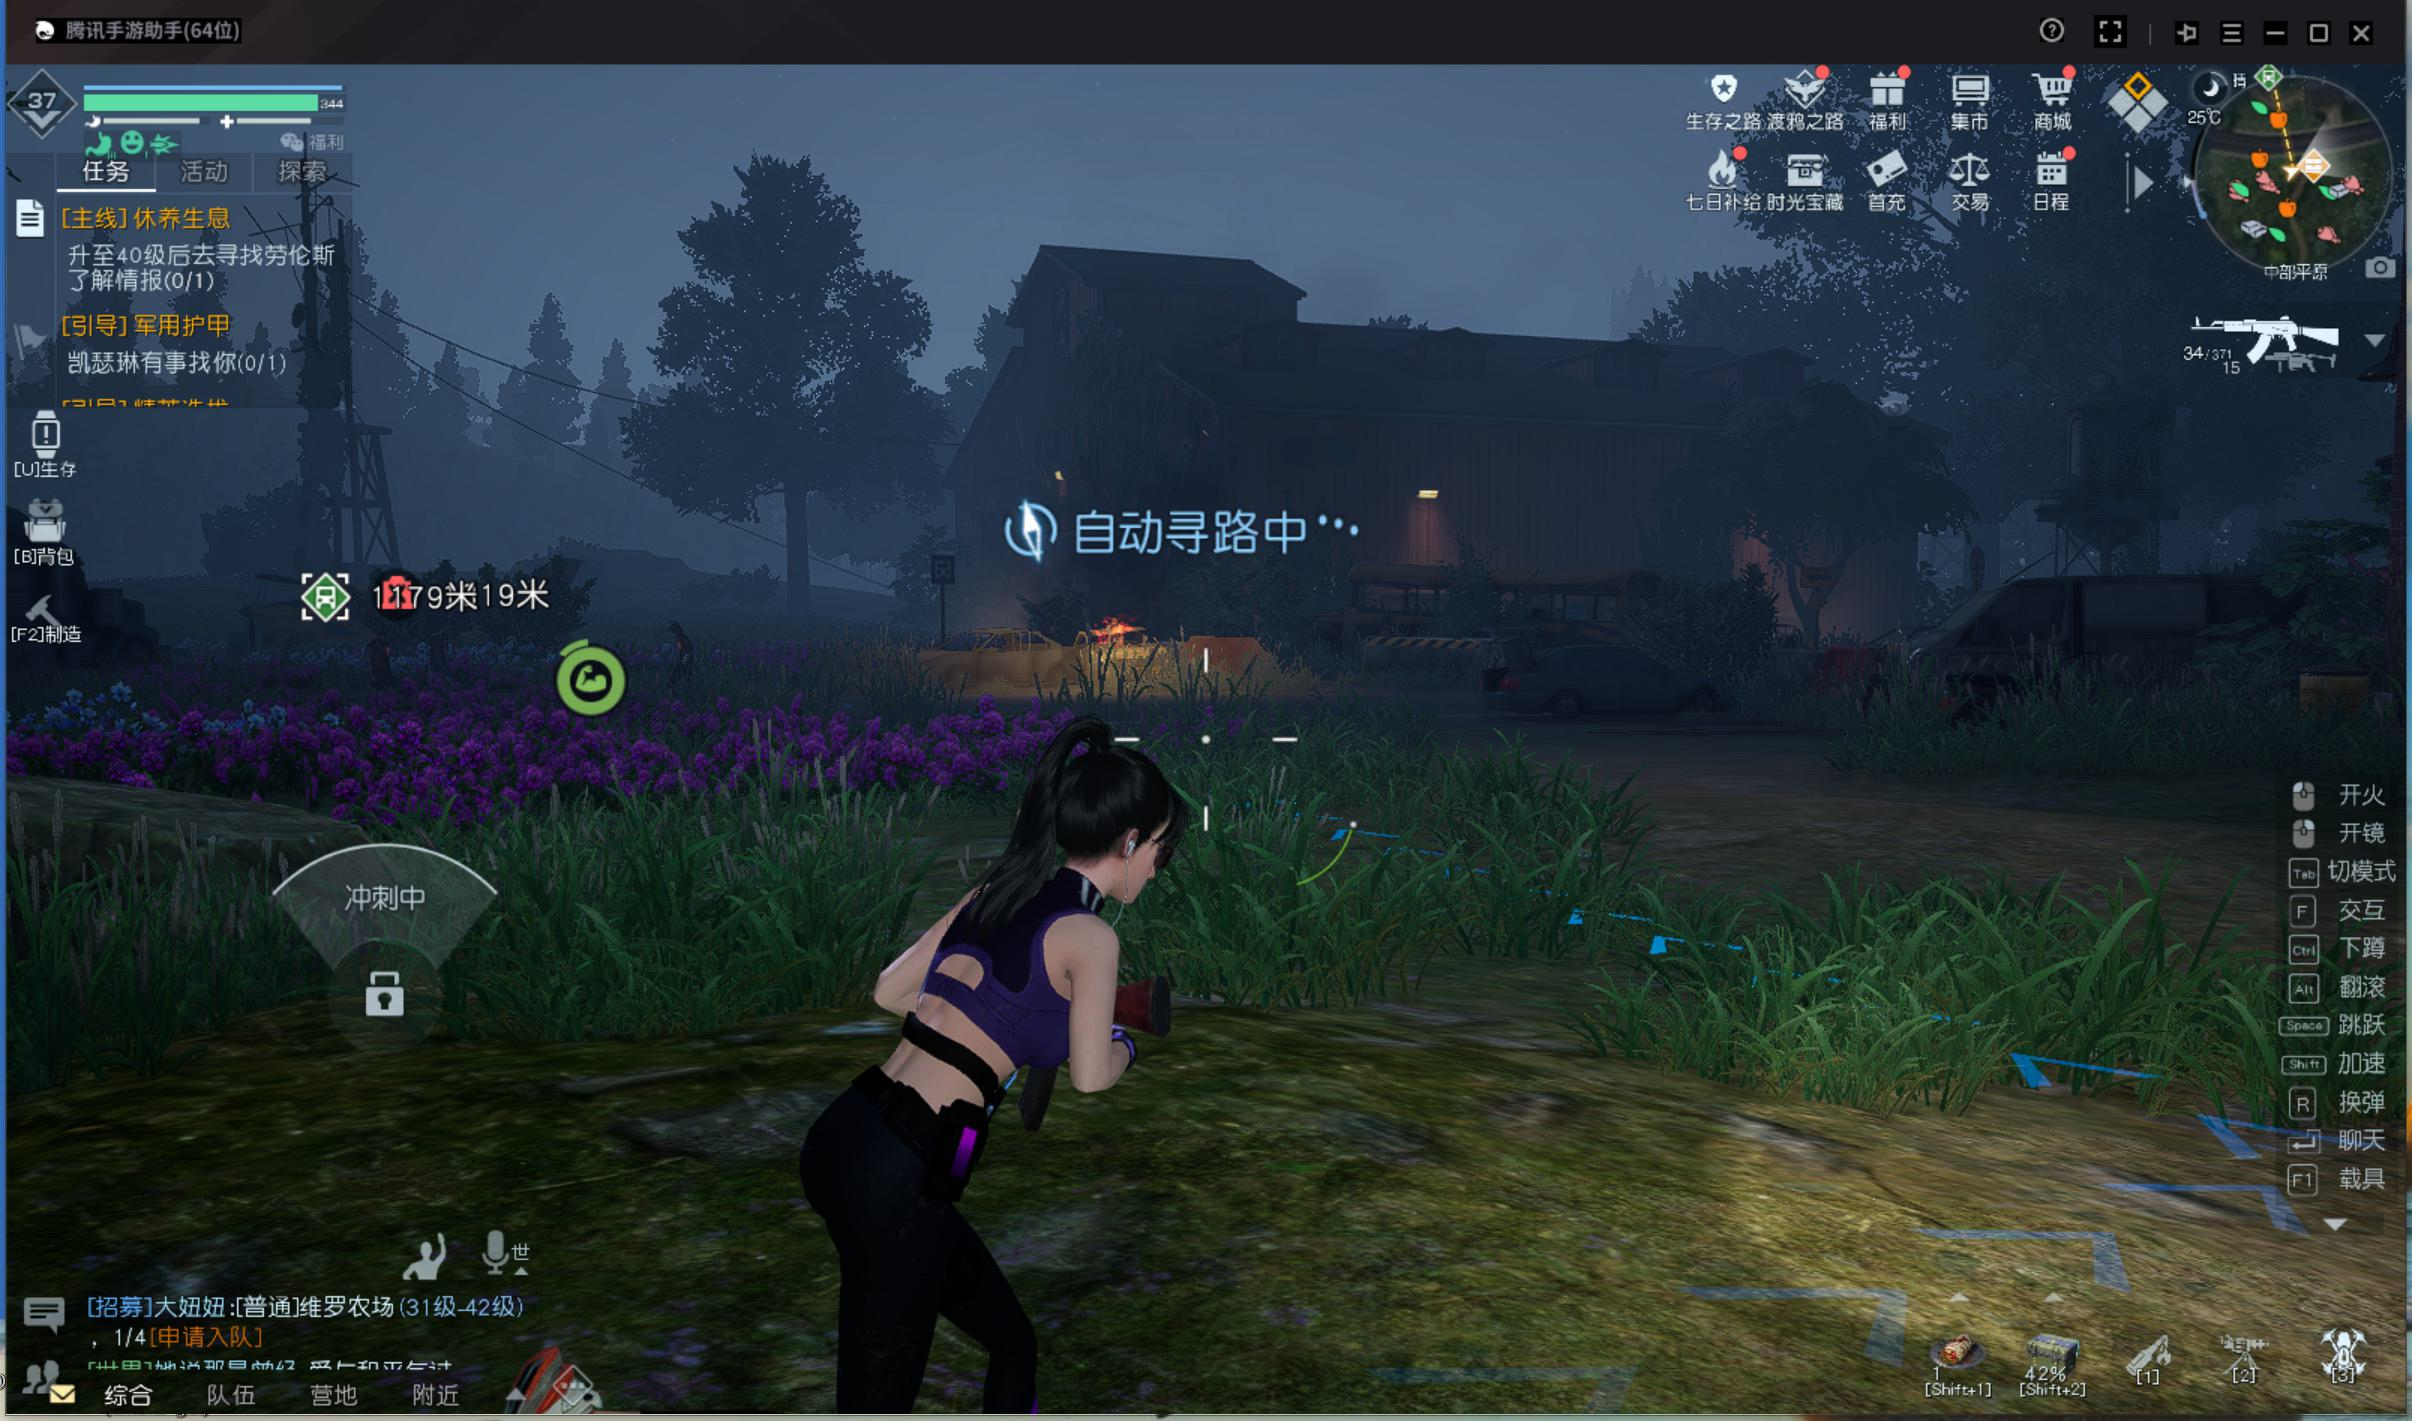tree: (775, 501, 824, 623)
